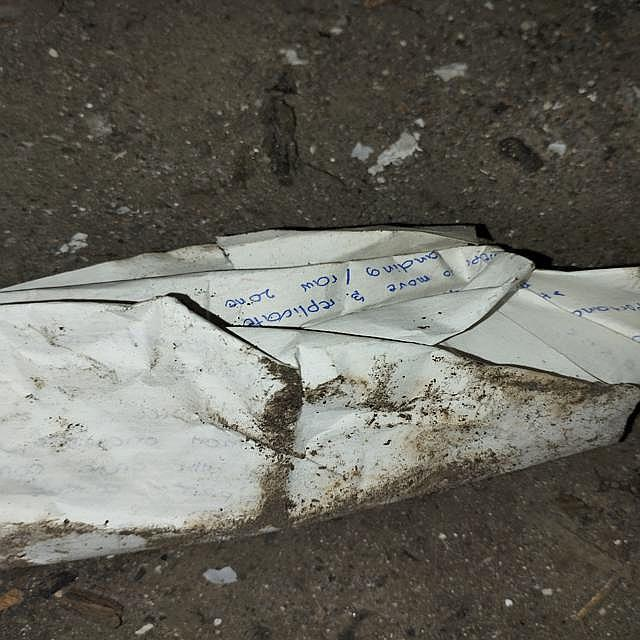Biodegradable: (1, 235, 640, 565)
